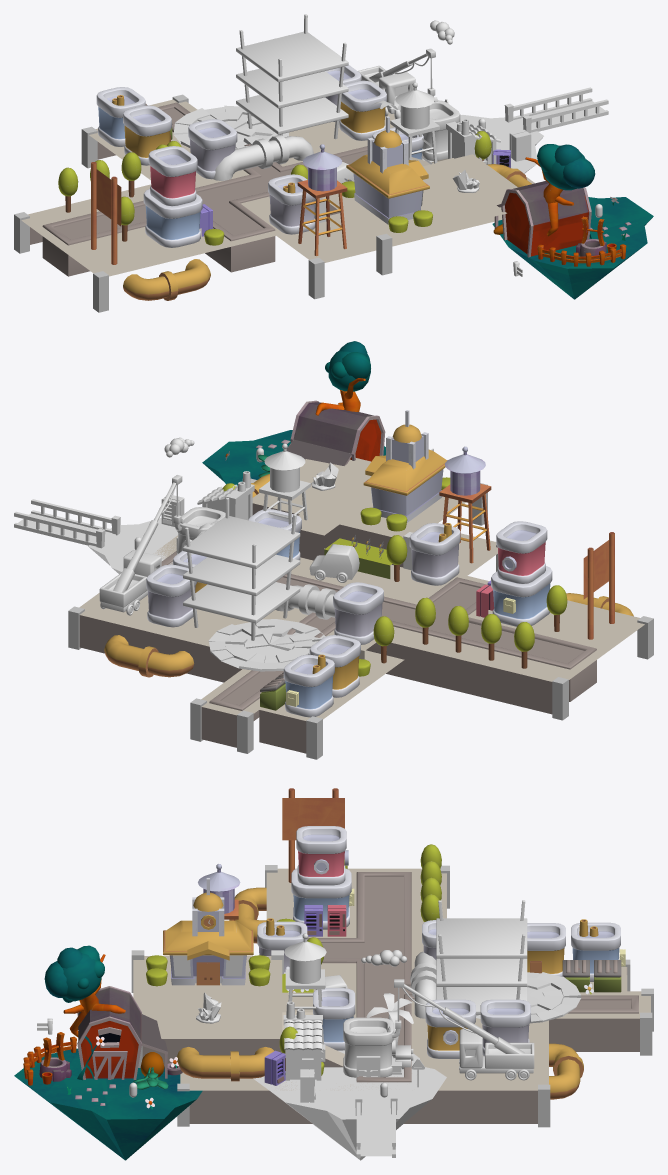
File: Ciudad.fbx
3 renders of one model, top to bottom at view 1: azimuth 30°, elevation 25°; view 2: azimuth 150°, elevation 25°; view 3: azimuth 270°, elevation 25°, orthographic. The views are drawn at different scales.
Visible parts, largest first — view 1: Cube.013, Cube.082, Cube.019, Cube.023, MainIsland.004, Cube.031, Cylinder.003, Cube.021, Cube.039, Cube.047, Cube.005, Cube.069 (+30 smaller); view 2: Cube.013, Cube.082, Cube.019, Cube.044, Cube.031, Cube.023, Circle, Cylinder.003, Cube.038, Cube.021, Cube.005, Cube.043 (+33 smaller); view 3: Cube.013, Cube.019, MainIsland.004, Cube.082, MainIsland.001, Cube.031, Cube.044, Cube.023, Cube.021, Sphere, Cube, Cylinder.031 (+35 smaller).
Boxes of the visible parts, x1,y1,x2,y2 form: Cube.013: [21, 112, 534, 276]; Cube.082: [236, 14, 348, 139]; Cube.019: [322, 154, 517, 241]; Cube.023: [42, 102, 423, 276]; MainIsland.004: [492, 197, 653, 299]; Cube.031: [494, 181, 591, 257]; Cylinder.003: [297, 144, 347, 256]; Cube.021: [148, 146, 197, 206]; Cube.039: [143, 189, 202, 247]; Cube.047: [213, 135, 313, 180]; Cube.005: [504, 87, 608, 133]; Cube.069: [339, 80, 386, 140]; Cube.013: [79, 533, 644, 714]; Cube.082: [183, 497, 300, 640]; Cube.019: [252, 458, 465, 567]; Cube.044: [201, 650, 404, 753]; Cube.031: [286, 400, 385, 465]; Cube.023: [161, 551, 596, 720]; Circle: [208, 619, 325, 671]; Cylinder.003: [439, 446, 491, 563]; Cube.038: [409, 523, 460, 585]; Cube.021: [496, 521, 547, 583]; Cube.005: [14, 499, 120, 548]; Cube.043: [333, 582, 383, 644]; Cube.013: [180, 868, 548, 1123]; Cube.019: [133, 956, 282, 1066]; MainIsland.004: [14, 1048, 202, 1160]; Cube.082: [436, 900, 527, 1014]; MainIsland.001: [253, 1050, 446, 1160]; Cube.031: [77, 986, 167, 1079]; Cube.044: [549, 967, 650, 1051]; Cube.023: [307, 872, 638, 1082]; Cube.021: [296, 826, 346, 885]; Sphere: [44, 945, 104, 1002]; Cube: [343, 1017, 393, 1077]; Cylinder.031: [282, 788, 344, 882].
Bounding box in the file's own units: 8740 × 2886 × 8161.
